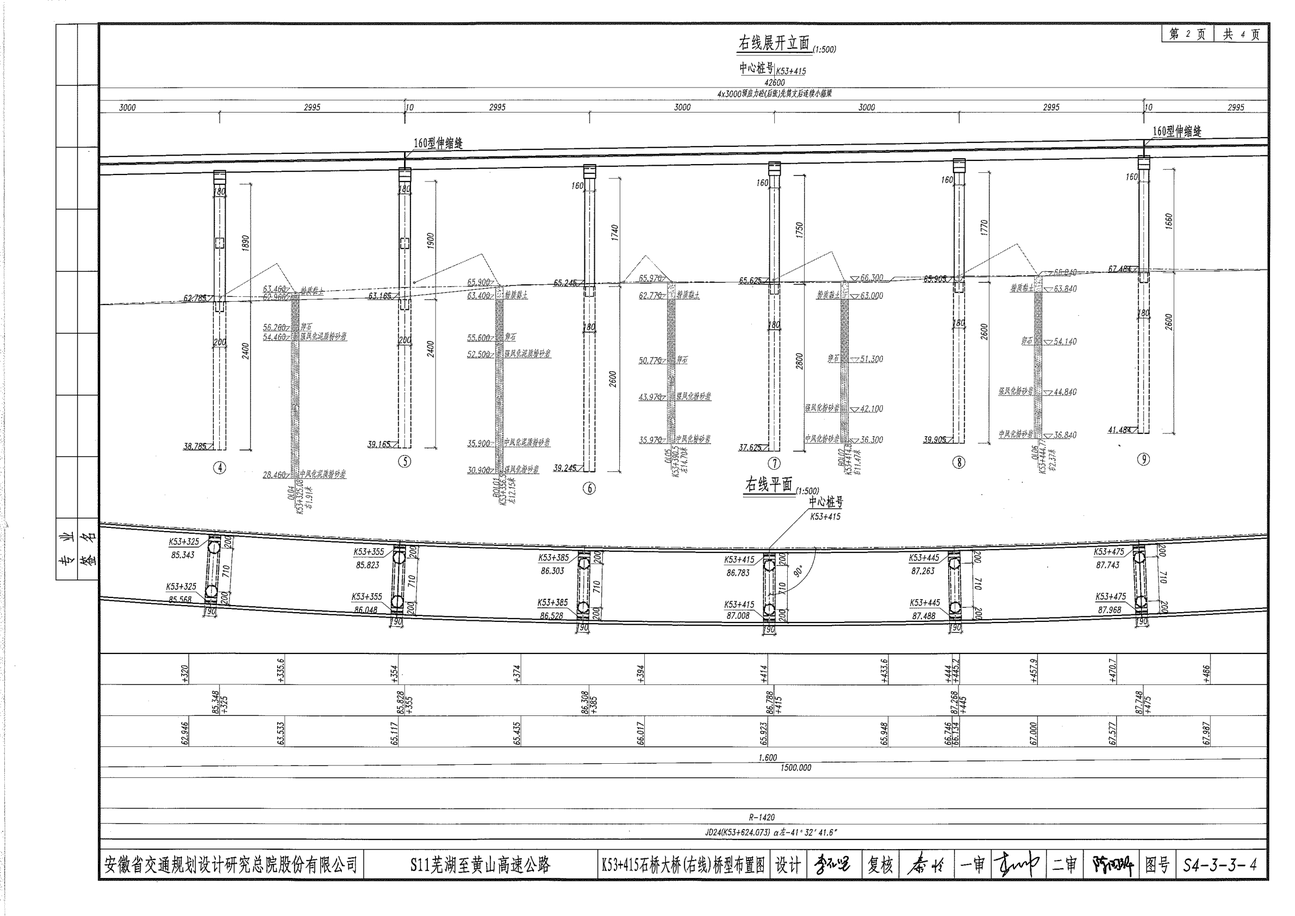A: (101, 35, 1254, 506)
